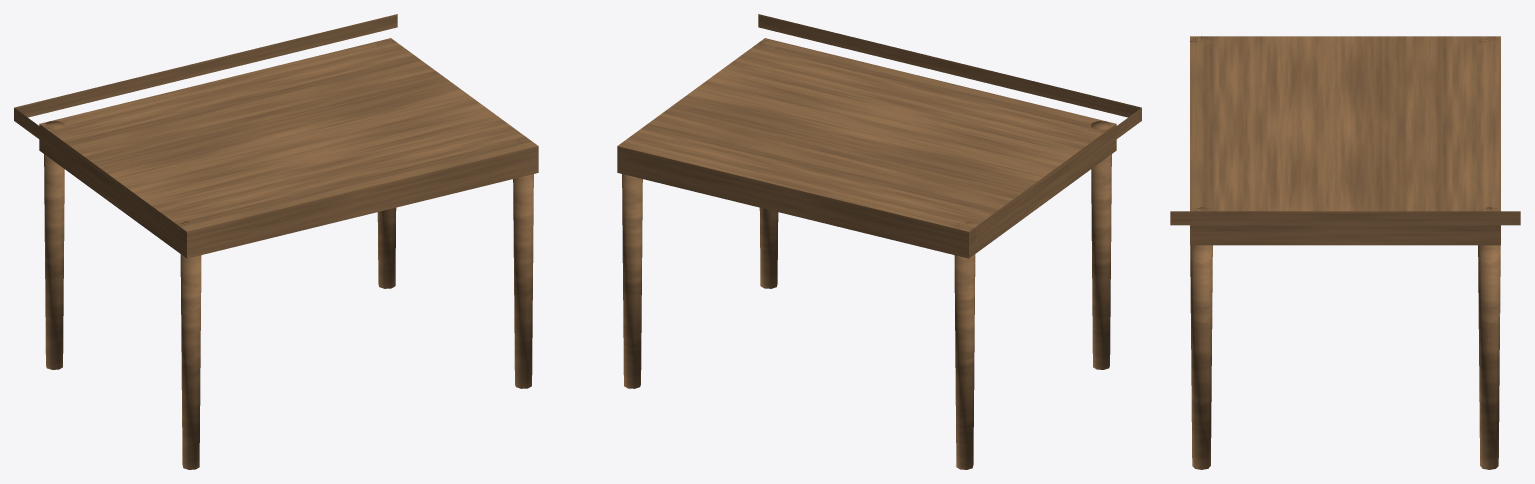
Rendered from kitchen_table.glb.
3 renders of one model, left to right at view 1: azimuth 30°, elevation 25°; view 2: azimuth 150°, elevation 25°; view 3: azimuth 270°, elevation 25°, orthographic. The views are drawn at different scales.
Visible parts, largest first — view 1: KitchenTable; view 2: KitchenTable; view 3: KitchenTable.
Part boxes in pixels (left/top/right/bottom): KitchenTable: left=14, top=14, right=538, bottom=469; KitchenTable: left=617, top=14, right=1141, bottom=469; KitchenTable: left=1170, top=36, right=1520, bottom=469.
Size of the model in its own units: 1.2 by 0.76 by 0.9.
Materials: 1 (1 with a texture image).
